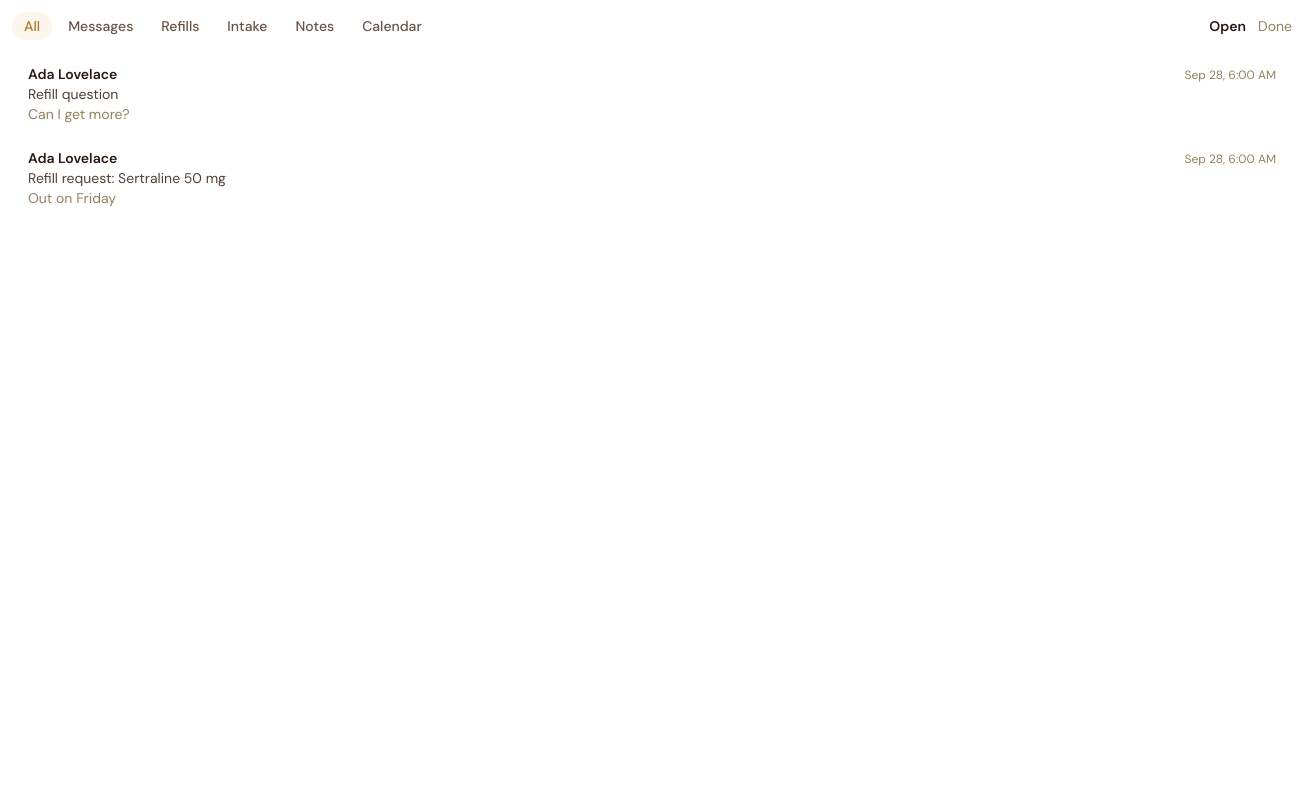
Inbox › the client's earlier messages, after a reply › Don't ask again leaves them open and remembers it
The image size is (1304, 812).
Click the 1st button with test id "inbox-row" at (73, 74), box [12, 52, 1292, 136]
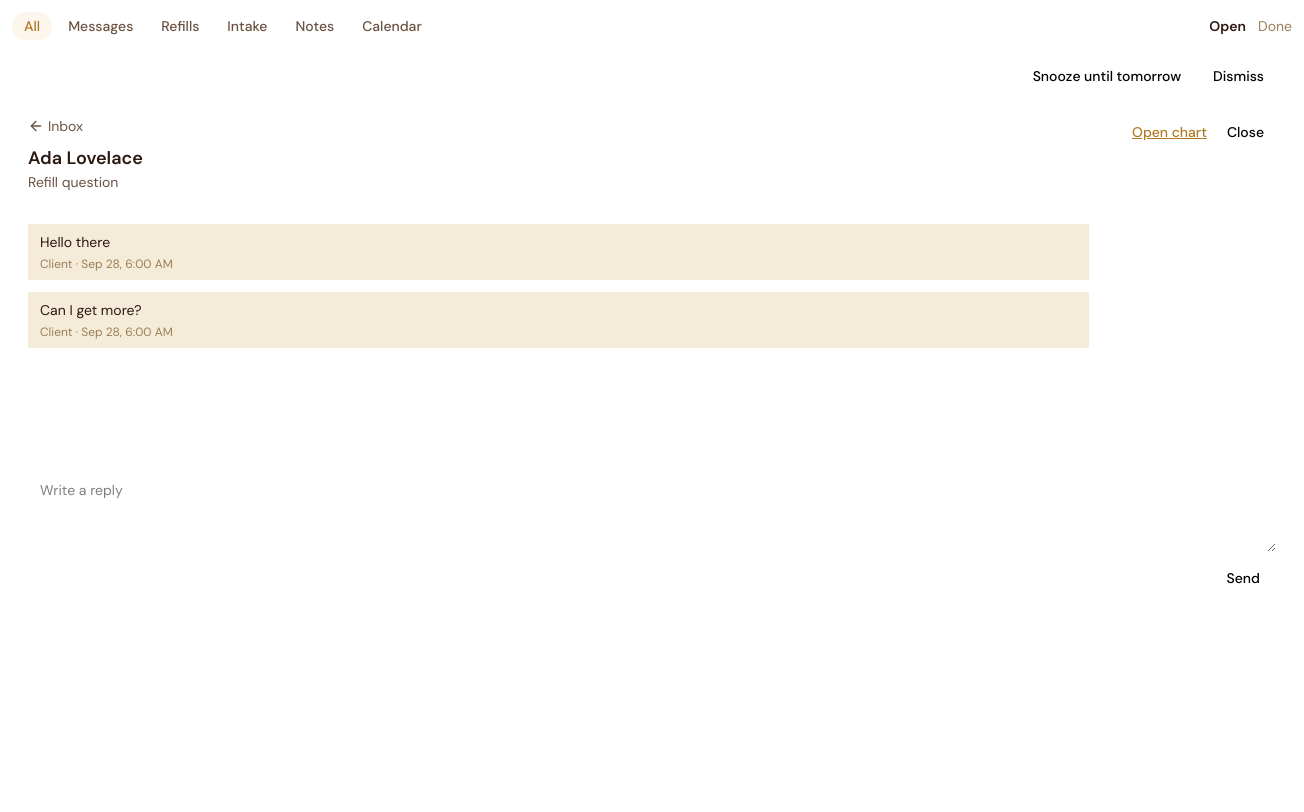
Type "Yes, sent." into the text box with test id "thread-reply-input" at (652, 512), box [28, 472, 1276, 552]
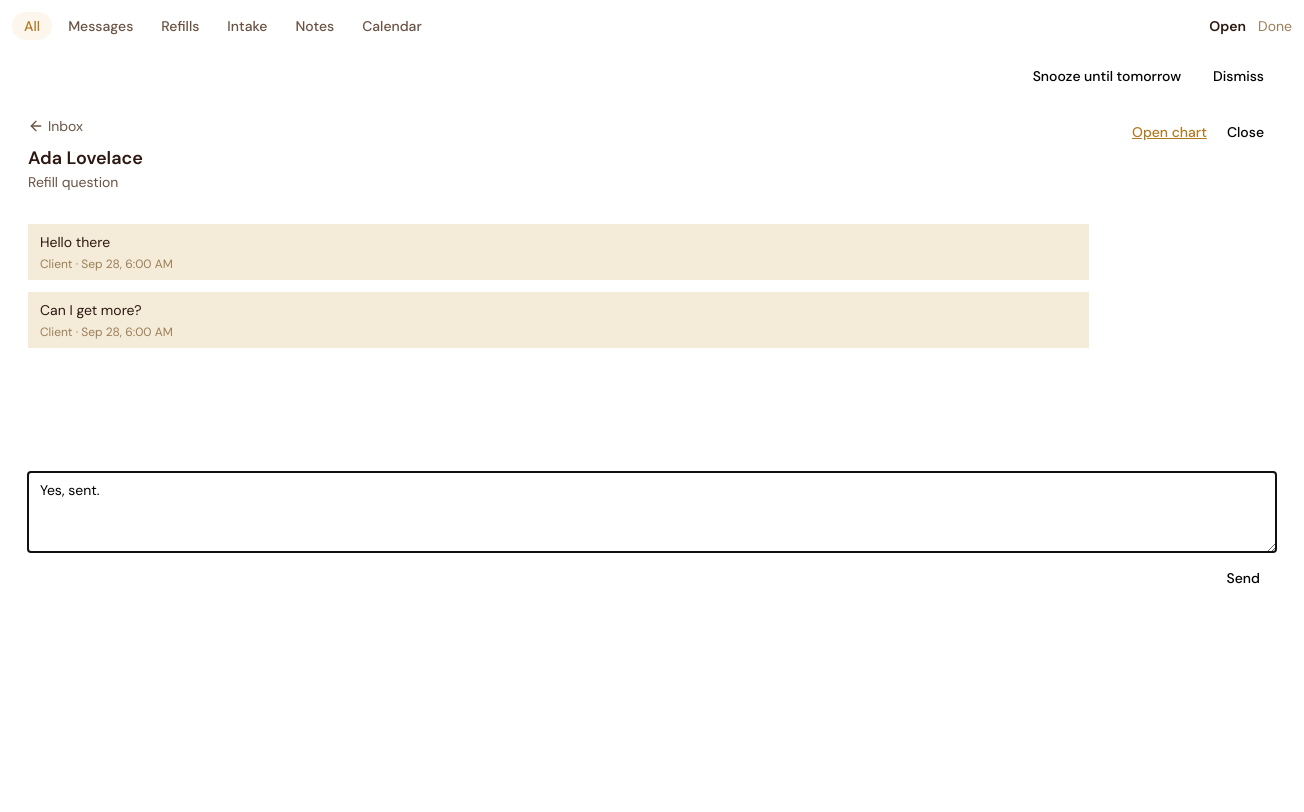
Click the button with test id "thread-reply-send" at (1243, 578), box [1210, 560, 1276, 596]
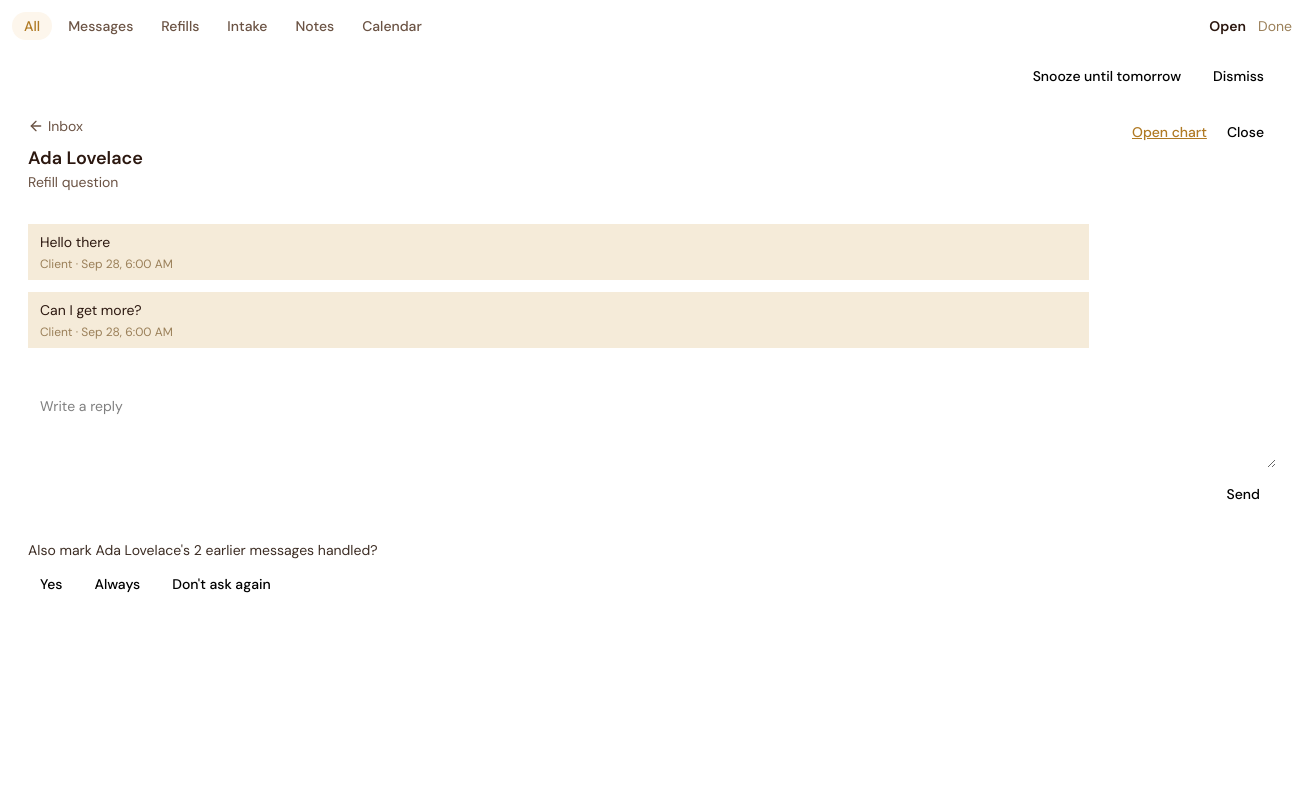
Click the button "Don't ask again" at (221, 584), box [160, 568, 283, 600]
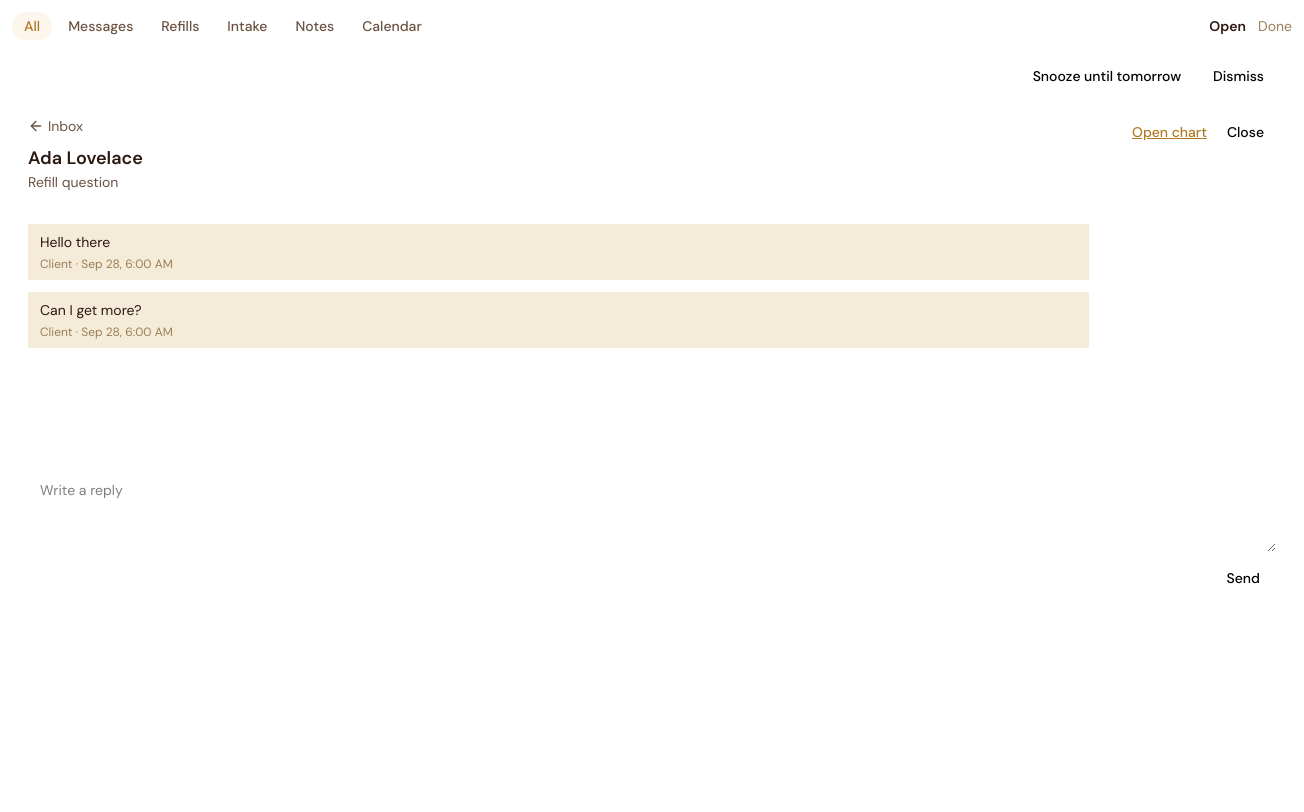
Expected: the message with test id "inbox-earlier-prompt" is gone
